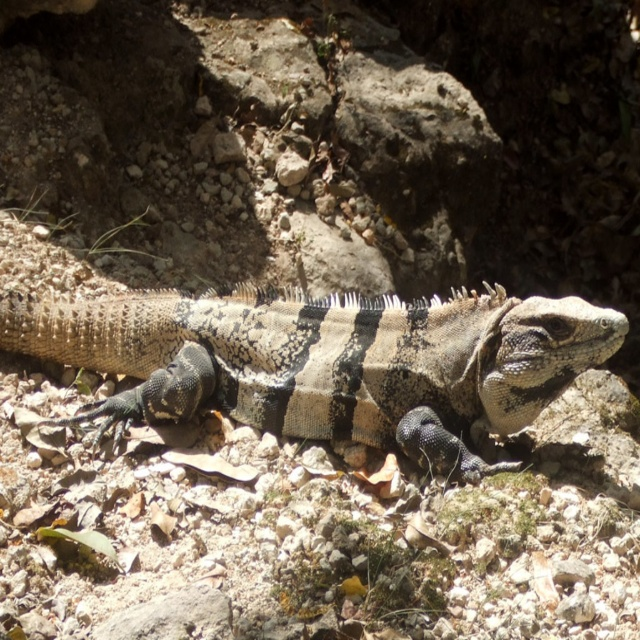Lizard: (0, 281, 629, 483)
